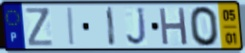H: (157, 6, 190, 47)
I: (105, 5, 117, 48), (67, 6, 77, 48)
J: (125, 6, 149, 47)
O: (188, 5, 221, 48)
Z: (24, 6, 55, 47)
